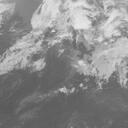cyclone: (52, 32, 119, 91)
